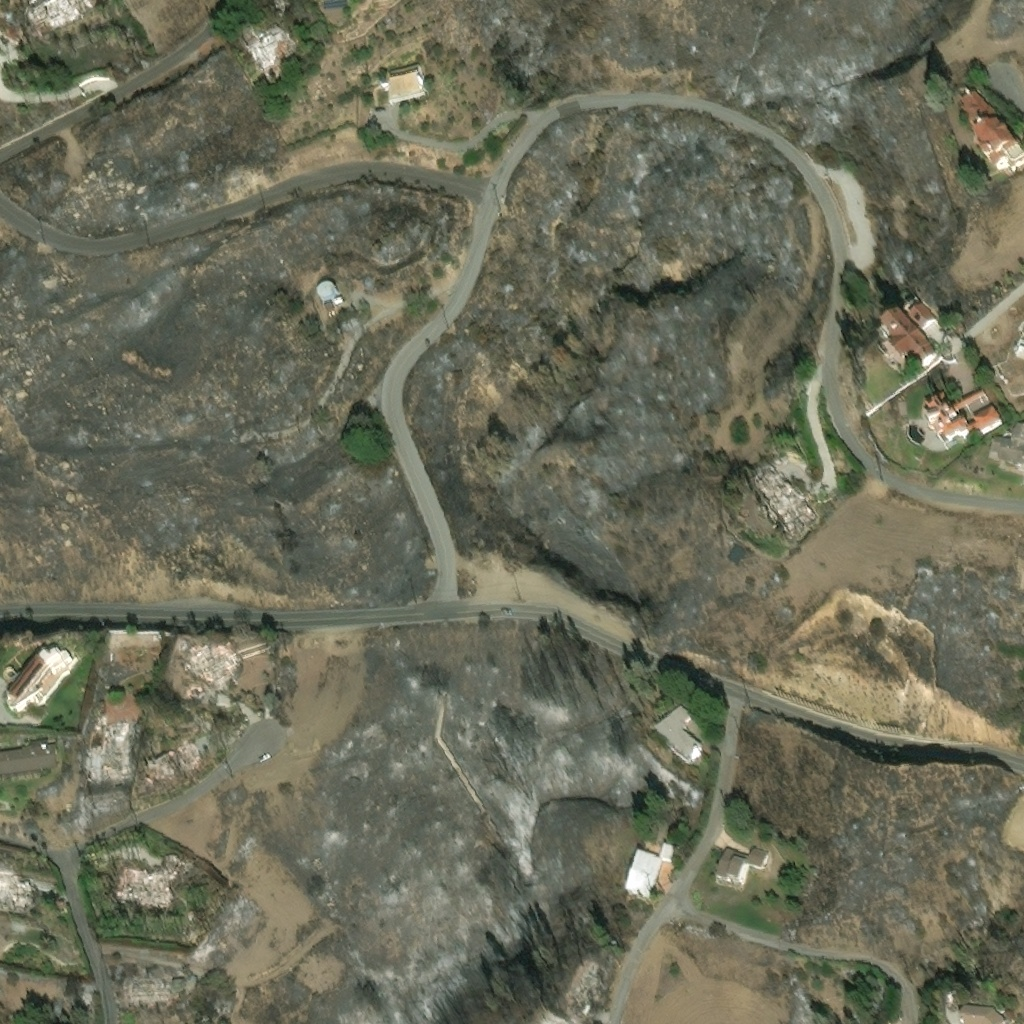0 no-damage: (960, 85, 1023, 170), (922, 388, 1003, 449), (876, 291, 938, 370), (7, 649, 73, 711), (654, 703, 713, 766), (625, 840, 673, 904), (944, 989, 1011, 1023), (716, 844, 768, 887), (371, 68, 426, 106), (988, 421, 1023, 470), (316, 282, 336, 301), (324, 301, 334, 315), (1015, 343, 1023, 358)
3 destroyed: (752, 465, 814, 532), (111, 857, 184, 913), (236, 20, 296, 75), (87, 719, 135, 783), (143, 740, 203, 786), (561, 959, 604, 1022), (25, 0, 102, 32), (183, 644, 233, 688), (0, 870, 36, 917), (126, 980, 176, 1011), (184, 683, 207, 706), (172, 977, 198, 997), (175, 639, 187, 659)
